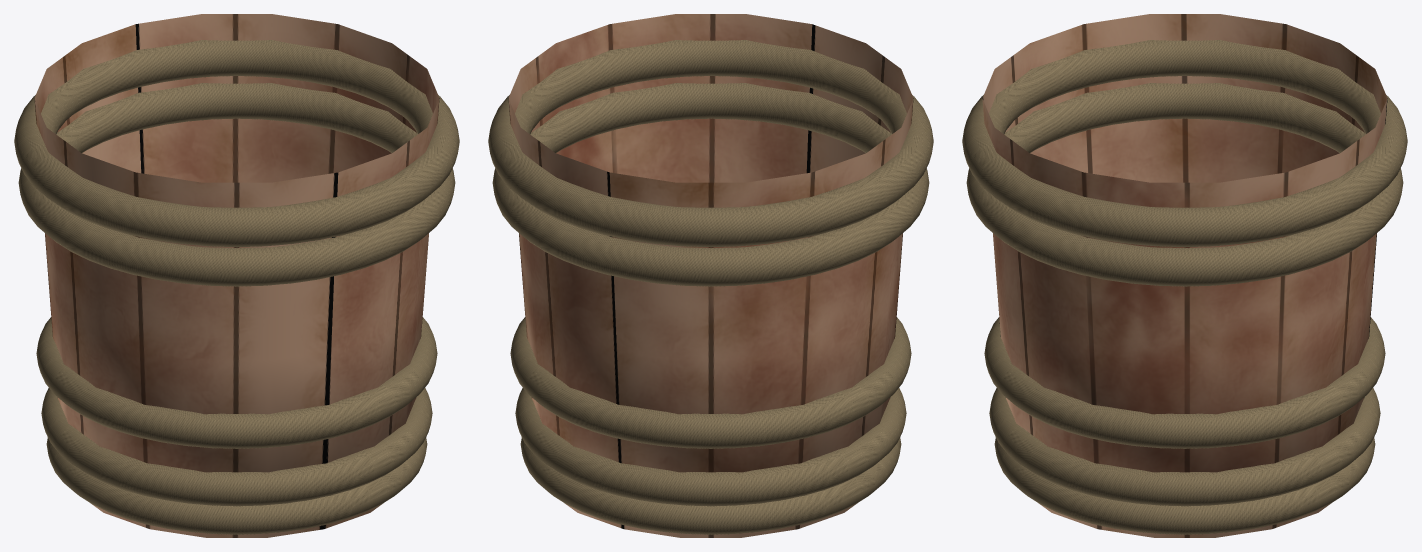
The model's file is sakadaru 2.fbx.
The picture shows the model from 3 angles, left to right: view 1: azimuth 30°, elevation 25°; view 2: azimuth 150°, elevation 25°; view 3: azimuth 270°, elevation 25°; orthographic projection.
Parts seen in each view (by area): view 1: Torus.001, Cylinder; view 2: Torus.001, Cylinder; view 3: Torus.001, Cylinder.
Boxes of the visible parts, x1,y1,x2,y2 form: Torus.001: (14,40,459,534); Cylinder: (34,14,439,537); Torus.001: (488,40,933,534); Cylinder: (508,14,913,537); Torus.001: (962,40,1407,534); Cylinder: (982,14,1387,537).
Size of the model in its own units: 220 by 200 by 220.
Materials: 2 (2 with a texture image).
